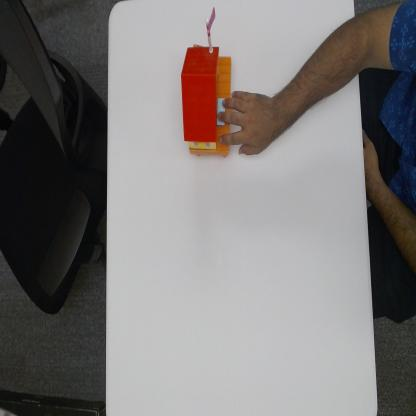Arm: (275, 15, 358, 136)
Hand: (218, 86, 274, 162)
House: (181, 10, 234, 162)
